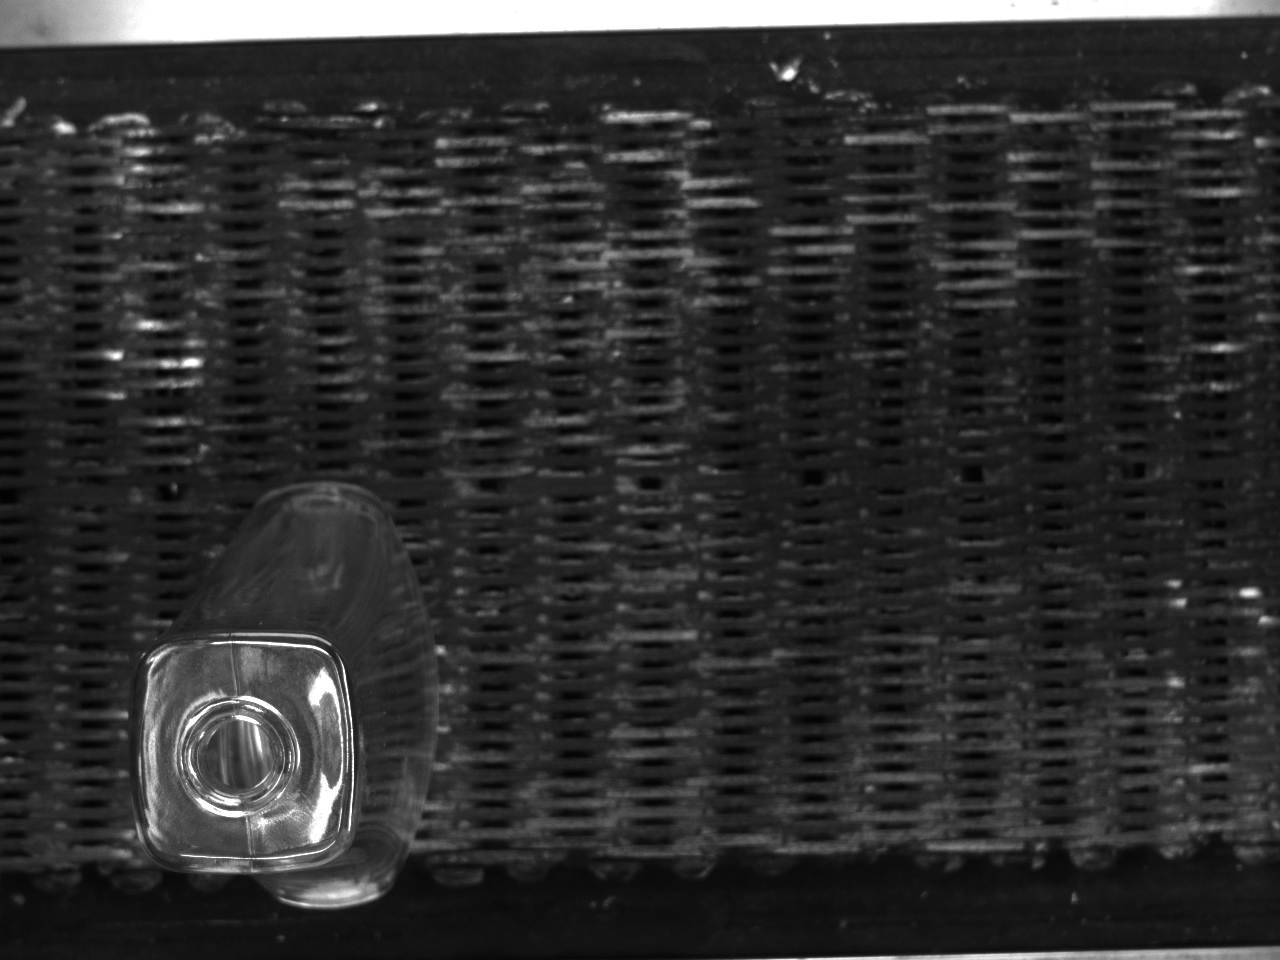bottleneck: (174, 696, 301, 820)
